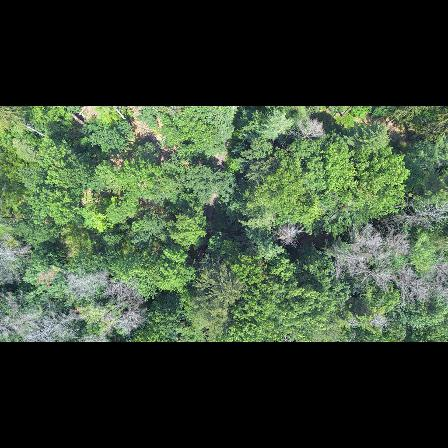Dead: (17, 311, 92, 342), (376, 202, 448, 232), (318, 246, 381, 275), (114, 287, 151, 336), (347, 222, 407, 252), (67, 266, 111, 299), (389, 275, 433, 305), (287, 115, 328, 144), (0, 244, 39, 274), (270, 223, 308, 249), (372, 259, 413, 278)
